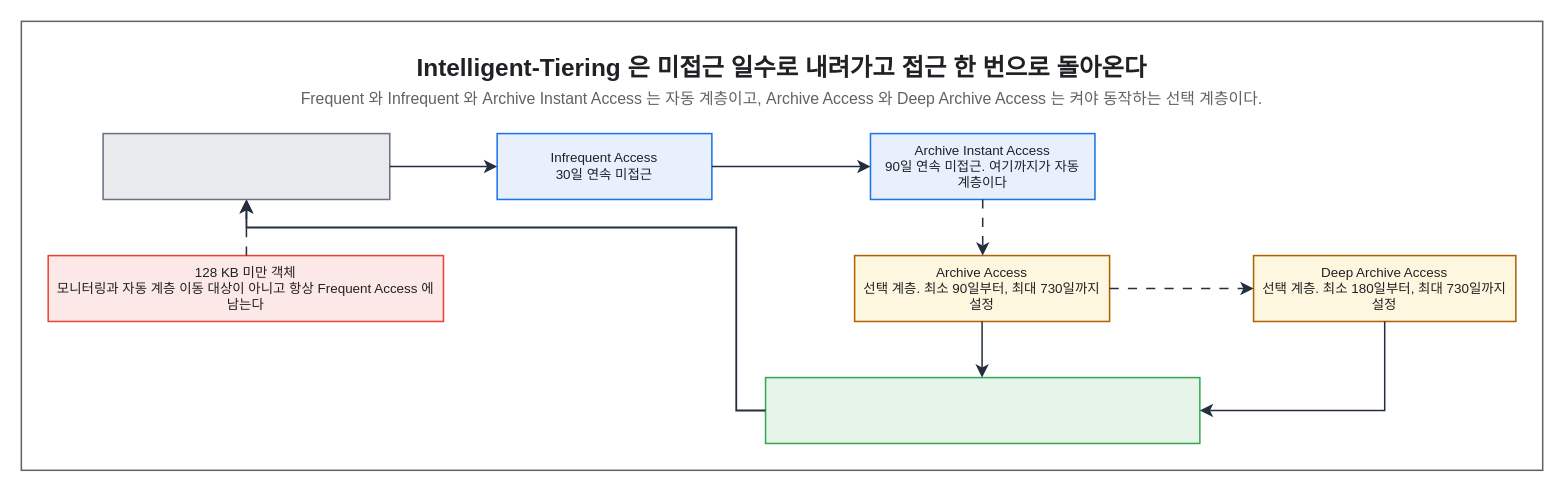
Image size: 1565x493. Some labels were removed from this diagram. The shapes that lost their labels are listed below. From the top down, each one's box as (x1, y1, x2, y2) in pixels, then its label:
(102, 132, 390, 200): Frequent Access 기본 계층. 접근이 발생하면 어느 계층에서든 여기로 돌아온다
(764, 376, 1200, 444): restore 요청 계정당 리전당 최대 1,000 TPS. 객체가 실제로 Frequent Access 로 이동한다
